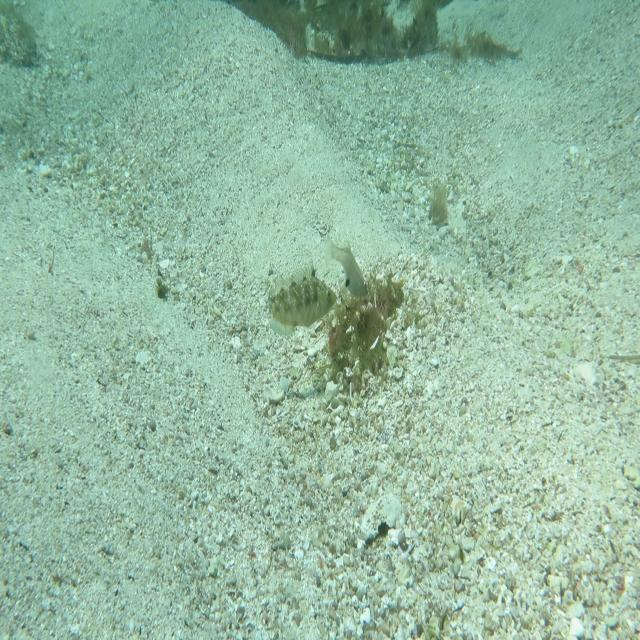GB: (266, 260, 338, 342)
female: (322, 228, 370, 302)
nest: (321, 263, 413, 385)
vegetation: (238, 0, 508, 65), (426, 172, 451, 234)
